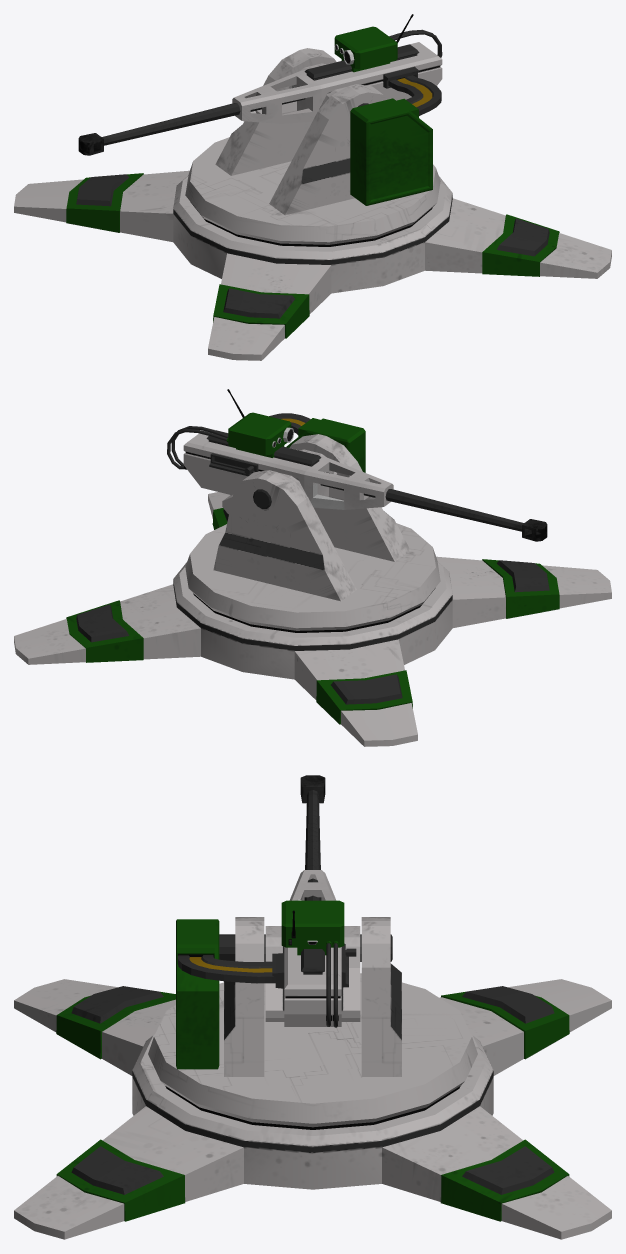
File: set predmetov.obj
The picture shows the model from 3 angles, top to bottom: view 1: azimuth 30°, elevation 25°; view 2: azimuth 150°, elevation 25°; view 3: azimuth 270°, elevation 25°; orthographic projection. The views are drawn at different scales.
Parts seen in each view (by area): view 1: Circle.001, Cube.013, Cube.011, Cube.012, Cube.007, Cylinder.014, BézierCurve.005, Cylinder.013; view 2: Circle.001, Cube.013, Cube.012, Cube.007, Cylinder.014, Cube.011, Cube.008, Cylinder.013; view 3: Circle.001, Cube.013, Cube.011, Cube.012, Cube.007, Cube.015, BézierCurve.005, Cylinder.014, Cylinder.015.
Part boxes in pixels (bbox=[...]): Circle.001: bbox=[14, 137, 611, 360]; Cube.013: bbox=[215, 48, 386, 215]; Cube.011: bbox=[350, 98, 432, 205]; Cube.012: bbox=[232, 42, 442, 123]; Cube.007: bbox=[334, 26, 397, 72]; Cylinder.014: bbox=[102, 86, 305, 145]; BézierCurve.005: bbox=[388, 75, 441, 115]; Cylinder.013: bbox=[78, 133, 103, 155]; Circle.001: bbox=[14, 492, 611, 746]; Cube.013: bbox=[213, 434, 410, 601]; Cube.012: bbox=[183, 428, 393, 509]; Cube.007: bbox=[228, 412, 291, 457]; Cylinder.014: bbox=[320, 472, 523, 531]; Cube.011: bbox=[286, 418, 365, 472]; Cube.008: bbox=[209, 453, 258, 476]; Cylinder.013: bbox=[522, 519, 547, 541]; Circle.001: bbox=[14, 973, 611, 1239]; Cube.013: bbox=[224, 917, 401, 1076]; Cube.011: bbox=[176, 919, 219, 1069]; Cube.012: bbox=[284, 870, 341, 1026]; Cube.007: bbox=[281, 900, 344, 955]; Cube.015: bbox=[265, 926, 360, 1021]; BézierCurve.005: bbox=[177, 955, 275, 983]; Cylinder.014: bbox=[304, 790, 321, 900]; Cylinder.015: bbox=[219, 934, 392, 961].
Size of the model in its own units: 4.04 by 1.81 by 3.76.
